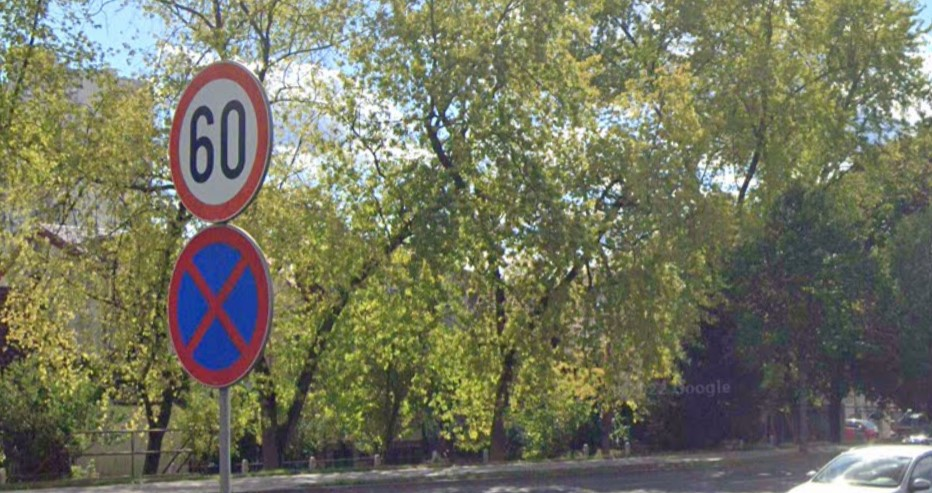Ograničenje brzine 60: (169, 62, 272, 222)
